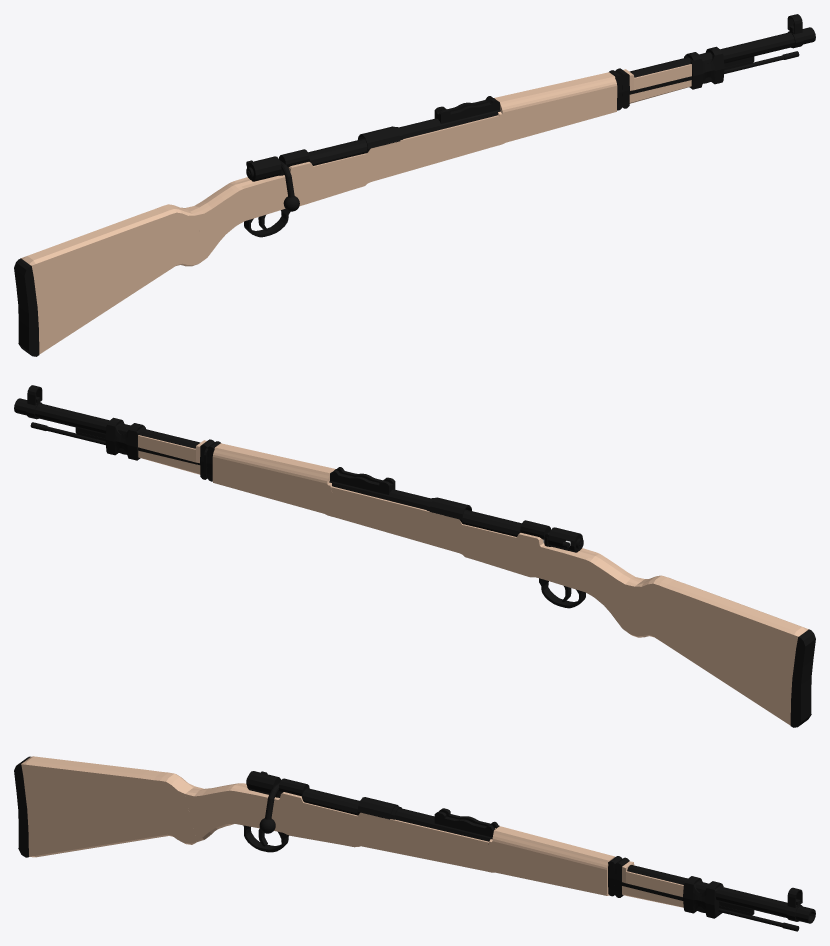
The model's file is Kar98.fbx.
3 renders of one model, top to bottom at view 1: azimuth 30°, elevation 25°; view 2: azimuth 150°, elevation 25°; view 3: azimuth 330°, elevation 25°, orthographic.
Parts seen in each view (by area): view 1: Cube.008, Cube.009, Cylinder, Cube.010, Cube.002, Cylinder.004, Cube.004, Cylinder.003, Cube.018, Cylinder.010, Cylinder.005; view 2: Cube.008, Cube.009, Cylinder, Cube.010, Cube.002, Cube.004, Cylinder.004, Cylinder.003, Cube.018; view 3: Cube.008, Cube.009, Cylinder, Cube.002, Cube.010, Cube.004, Cylinder.004, Cylinder.003, Cube.018, Cylinder.005, Cylinder.010, Cube.005 (+3 smaller).
Part boxes in pixels (<box>): Cube.008: <box>185,72,617,257</box>; Cube.009: <box>21,204,206,354</box>; Cylinder: <box>629,27,815,77</box>; Cube.010: <box>14,258,39,356</box>; Cube.002: <box>684,46,724,89</box>; Cylinder.004: <box>308,138,367,165</box>; Cube.004: <box>623,64,691,90</box>; Cylinder.003: <box>399,110,500,138</box>; Cube.018: <box>434,96,499,120</box>; Cylinder.010: <box>247,156,281,181</box>; Cylinder.005: <box>358,126,400,152</box>; Cube.008: <box>212,443,644,628</box>; Cube.009: <box>622,575,808,725</box>; Cylinder: <box>14,398,200,448</box>; Cube.010: <box>790,629,815,727</box>; Cube.002: <box>105,417,145,460</box>; Cube.004: <box>138,435,206,463</box>; Cylinder.004: <box>462,509,521,536</box>; Cylinder.003: <box>329,481,430,509</box>; Cube.018: <box>330,467,395,491</box>; Cube.008: <box>185,783,614,895</box>; Cube.009: <box>21,756,196,857</box>; Cylinder: <box>627,865,815,923</box>; Cube.002: <box>683,876,723,918</box>; Cube.010: <box>14,756,30,857</box>; Cube.004: <box>622,861,683,896</box>; Cylinder.004: <box>302,788,359,815</box>; Cylinder.003: <box>394,808,492,841</box>; Cube.018: <box>434,808,499,834</box>; Cylinder.005: <box>357,797,398,819</box>; Cylinder.010: <box>247,771,281,794</box>; Cube.005: <box>622,886,683,907</box>.
Bounding box in the file's own units: 2034 × 370 × 109.
